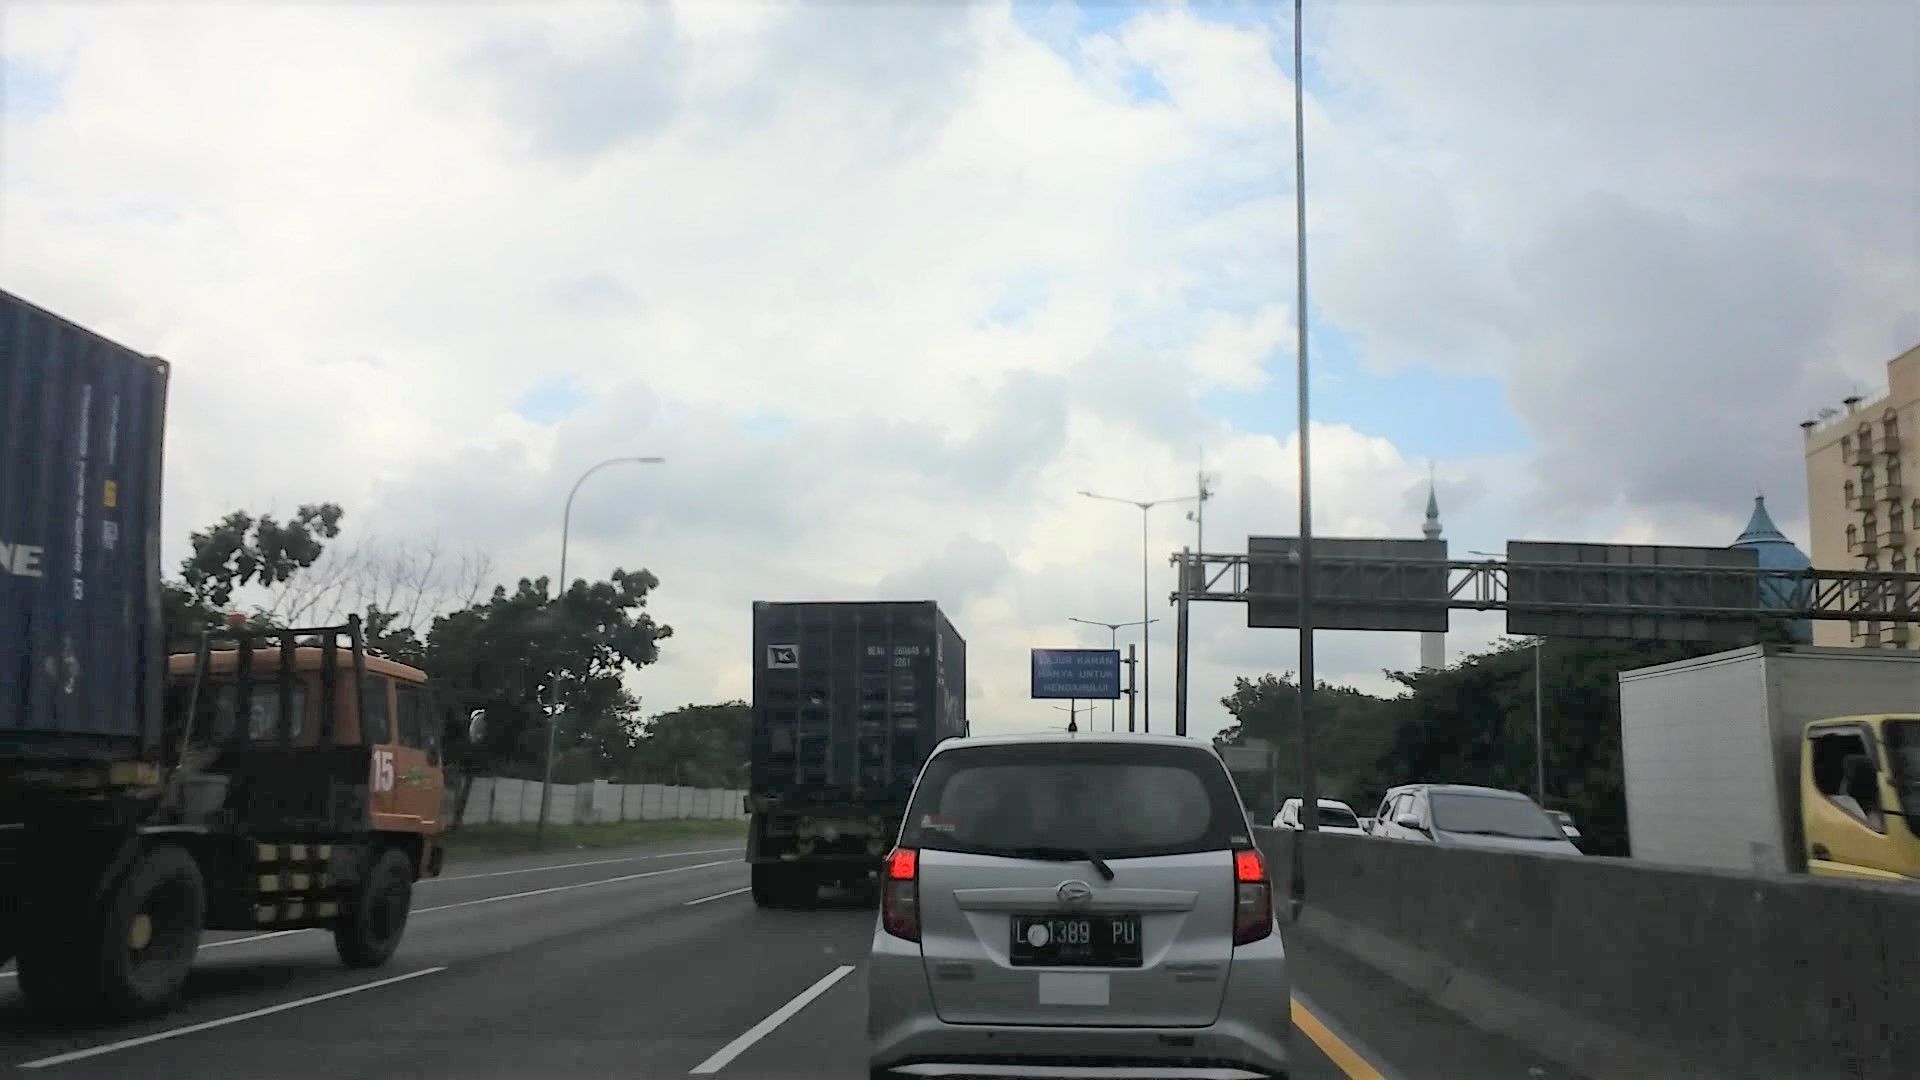plate_positive: (1009, 913, 1141, 967)
